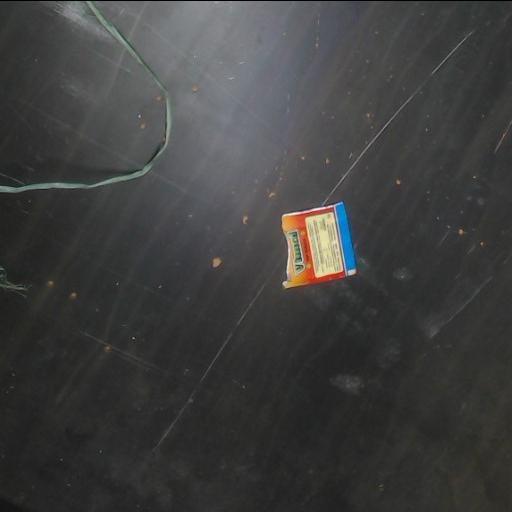conveyor belt: (0, 1, 511, 512), (0, 1, 162, 184)
packet: (281, 202, 355, 288)
thread: (0, 1, 172, 192), (0, 265, 26, 291)
